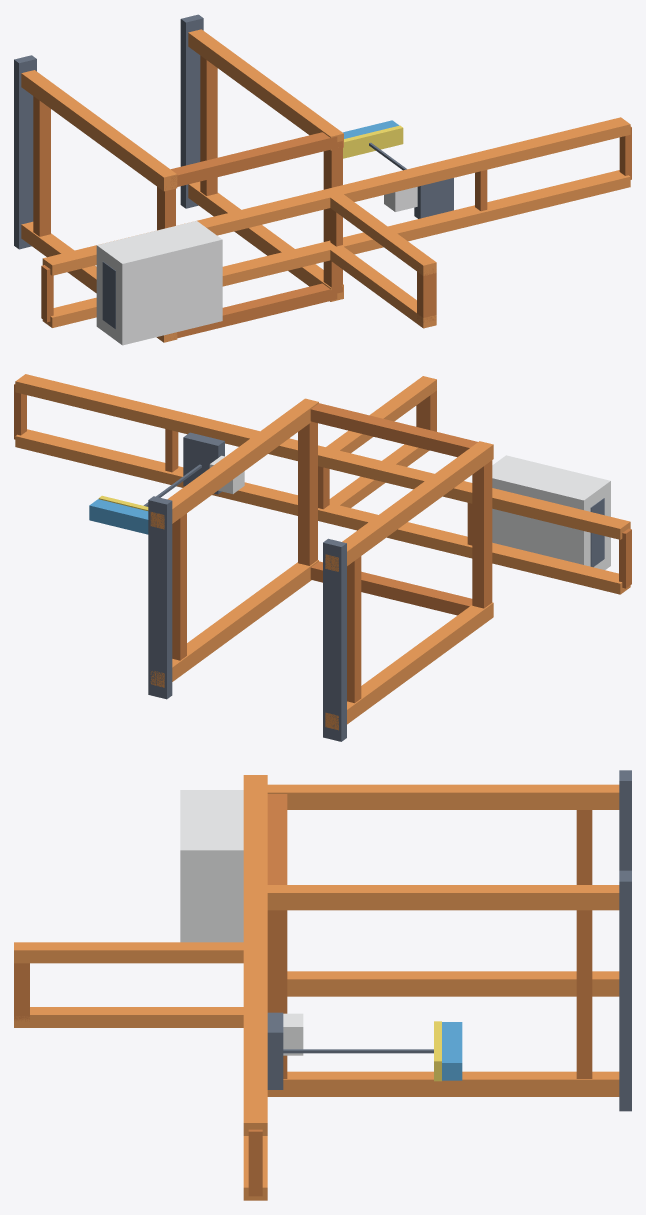
Rendered from crane.glb.
3 renders of one model, top to bottom at view 1: azimuth 30°, elevation 25°; view 2: azimuth 150°, elevation 25°; view 3: azimuth 270°, elevation 25°, orthographic. The views are drawn at different scales.
Parts seen in each view (by area): view 1: sts_crane; view 2: sts_crane; view 3: sts_crane.
Boxes of the visible parts, box(x1,y1,x2,y2) form: sts_crane: box(14, 14, 631, 345); sts_crane: box(14, 374, 631, 741); sts_crane: box(14, 770, 631, 1200).
Size of the model in its own units: 105 by 32 by 78.
